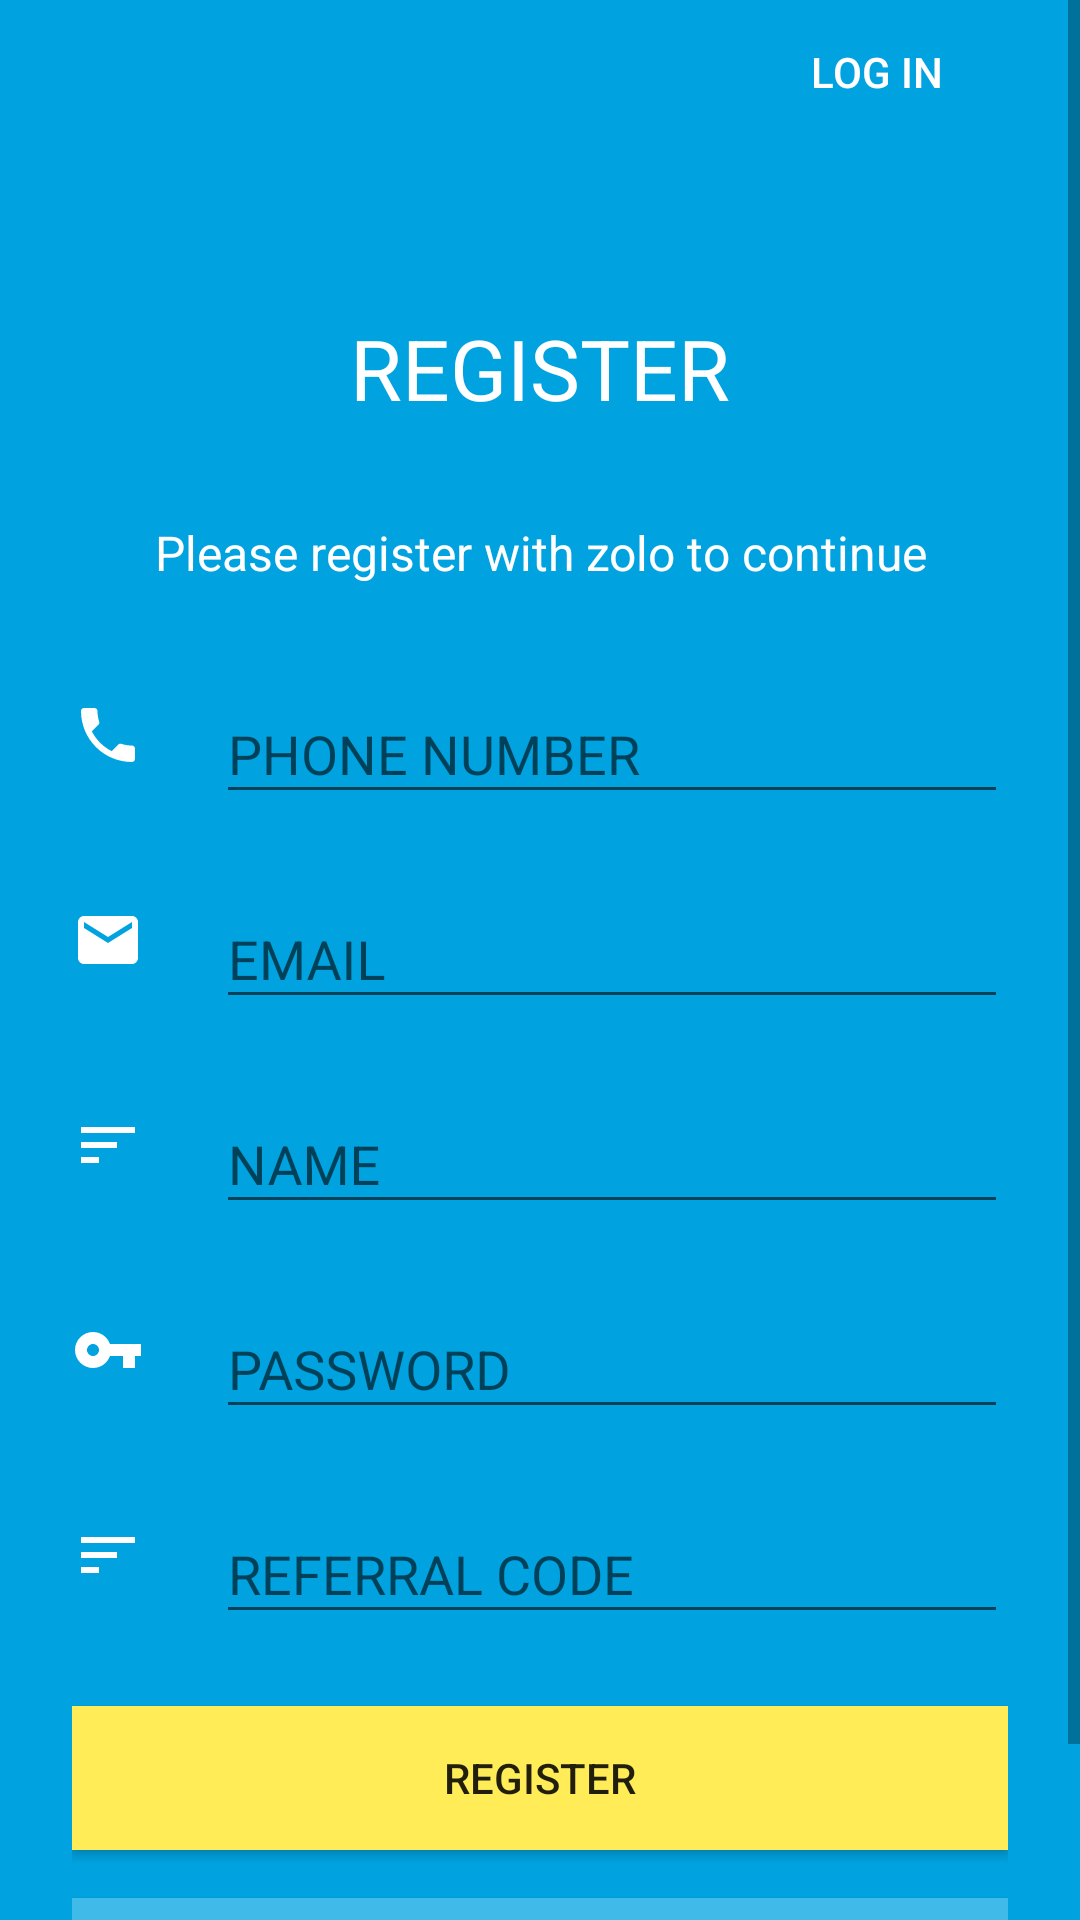

Locate icon controls on the screen. Image size 1080w x 1920h, boxes as (x1, y1, x2, y2).
call: (81, 708, 135, 762)
key: (75, 1332, 141, 1368)
